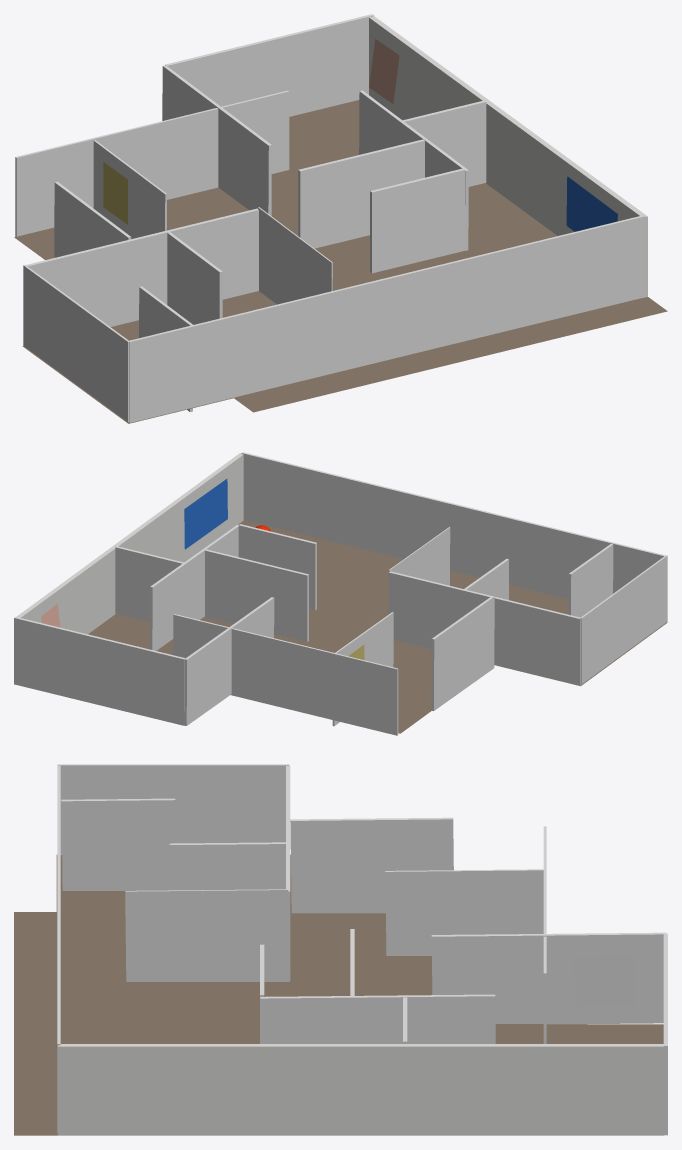
The model's file is floorplan.fbx.
3 renders of one model, top to bottom at view 1: azimuth 30°, elevation 25°; view 2: azimuth 150°, elevation 25°; view 3: azimuth 270°, elevation 25°, orthographic. The views are drawn at different scales.
Visible parts, largest first — view 1: Cube, Plane, Cube.007, Cube.001, Cube.009, Cube.002, Cube.011, Cube.005, Cube.013, Cube.006, Plane.001, Cube.012 (+10 smaller); view 2: Cube, Cube.007, Cube.002, Plane, Cube.009, Cube.001, Cube.005, Cube.011, Cube.008, Cube.006, Cube.004, Cube.003 (+8 smaller); view 3: Cube.001, Plane, Cube.006, Cube.012, Cube.011, Cube.008, Cube.004, Cube.014, Cube.010, Cube.015, Plane.002, Plane.001 (+5 smaller).
Boxes of the visible parts, x1,y1,x2,y2 form: Cube: [129, 215, 645, 422]; Plane: [14, 184, 667, 412]; Cube.007: [15, 90, 289, 236]; Cube.001: [369, 16, 647, 297]; Cube.009: [24, 208, 258, 347]; Cube.002: [165, 14, 374, 116]; Cube.011: [23, 265, 129, 422]; Cube.005: [298, 139, 424, 248]; Cube.013: [370, 168, 465, 273]; Cube.006: [162, 65, 271, 215]; Plane.001: [271, 100, 486, 231]; Cube.012: [258, 207, 332, 304]; Cube: [241, 452, 665, 599]; Cube.007: [173, 614, 398, 735]; Cube.002: [14, 617, 185, 725]; Plane: [200, 520, 515, 733]; Cube.009: [388, 571, 581, 685]; Cube.001: [16, 453, 243, 634]; Cube.005: [204, 549, 308, 641]; Cube.011: [580, 555, 667, 684]; Cube.008: [431, 596, 494, 710]; Cube.006: [184, 597, 274, 725]; Cube.004: [149, 524, 238, 650]; Cube.003: [115, 546, 183, 621]; Cube.001: [58, 1044, 664, 1135]; Plane: [14, 912, 543, 1135]; Cube.006: [431, 932, 666, 1024]; Cube.012: [125, 889, 289, 981]; Cube.011: [57, 764, 289, 854]; Cube.008: [290, 817, 453, 913]; Cube.004: [260, 994, 495, 1043]; Cube.014: [385, 869, 543, 955]; Cube.010: [61, 798, 175, 890]; Cube.015: [169, 842, 285, 890]; Plane.002: [56, 854, 291, 953]; Plane.001: [495, 1024, 663, 1043].
Bounding box in the file's own units: 1354 × 239 × 1332.
